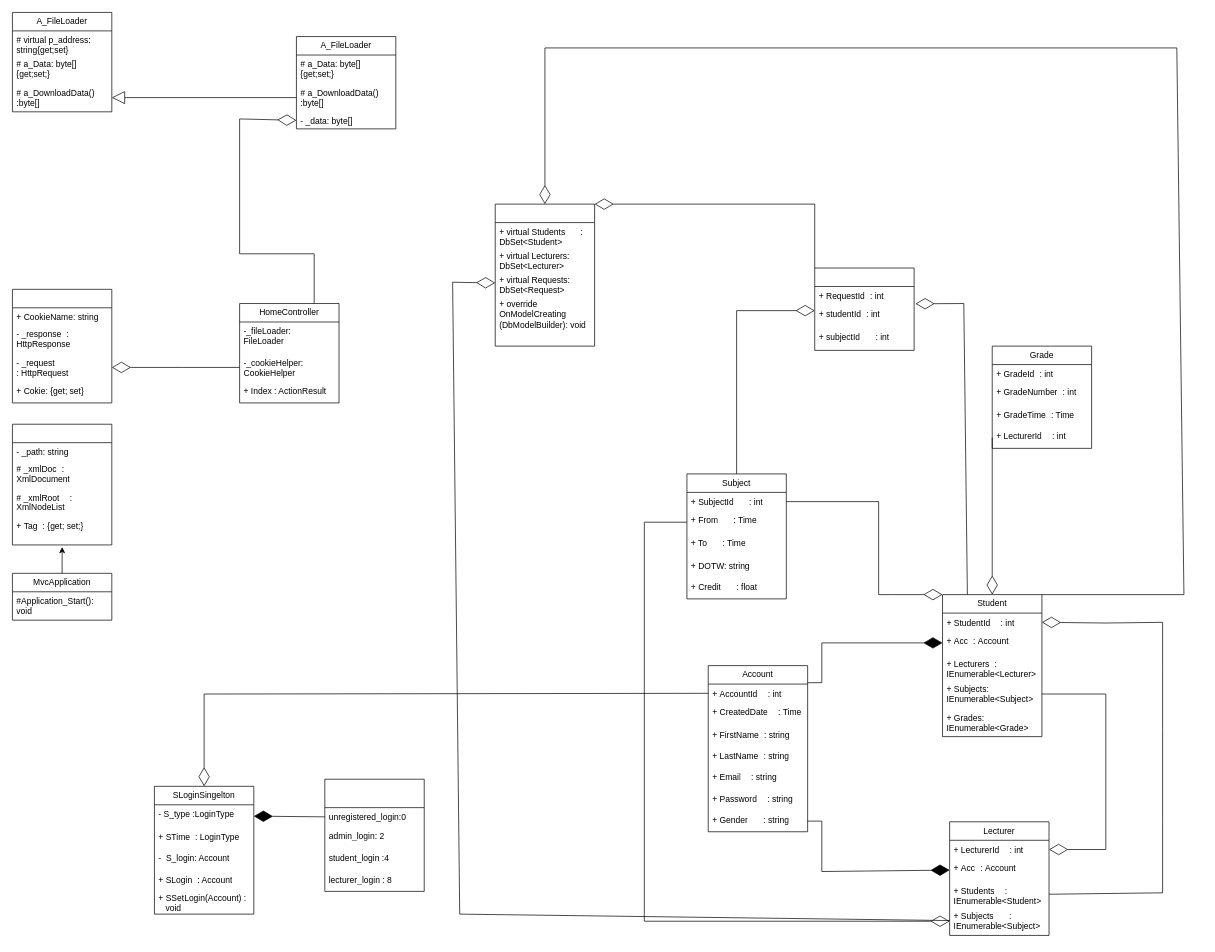
Image size: 1215x952. Some labels were removed from this diagram. The box of each missing label's shape, as (x1, y1, x2, y2) in pixels:
CookieHelper: (12, 289, 112, 403)
StudentRequest: (814, 267, 914, 350)
UniversityContext: (495, 203, 595, 346)
XmlHelper: (12, 424, 112, 545)
«enumeration» LoginType: (324, 779, 424, 891)
